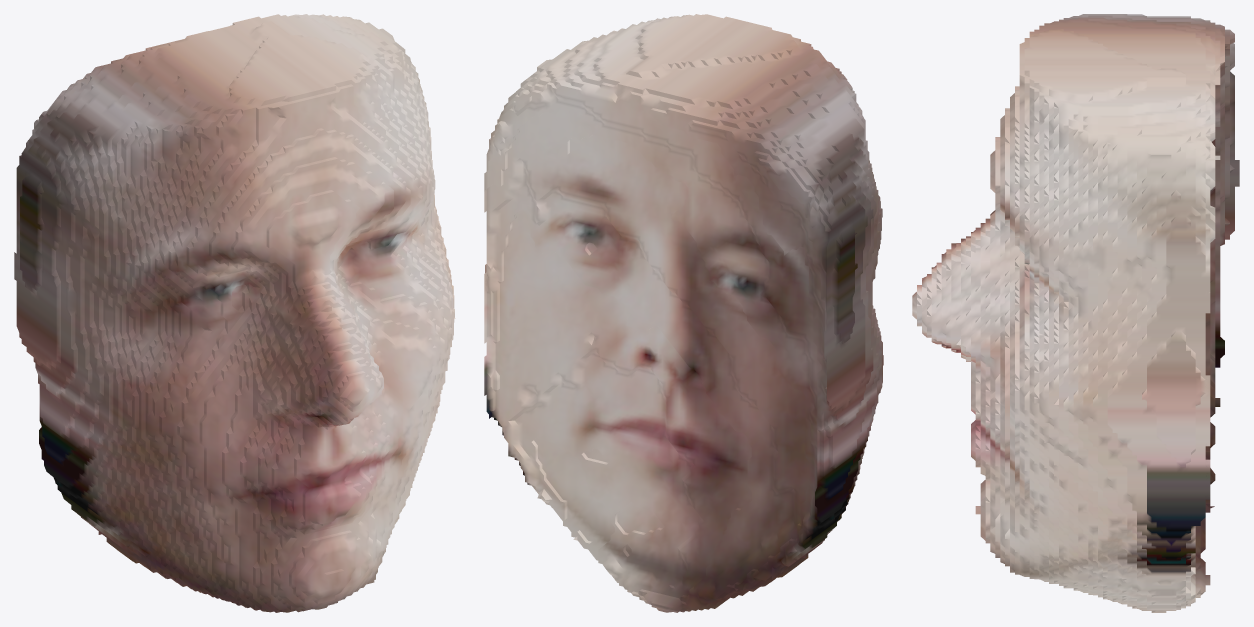
The model's file is musk_face.glb.
3 views of the same model, side by side, from view 1: azimuth 30°, elevation 25°; view 2: azimuth 150°, elevation 25°; view 3: azimuth 270°, elevation 25° (orthographic). The views are drawn at different scales.
Parts seen in each view (by area): view 1: Object_2; view 2: Object_2; view 3: Object_2.
Part boxes in pixels (x1,y1,x2,y2): Object_2: [14, 14, 455, 612]; Object_2: [484, 14, 883, 612]; Object_2: [912, 14, 1239, 612].
Size of the model in its own units: 87 by 122 by 67.
